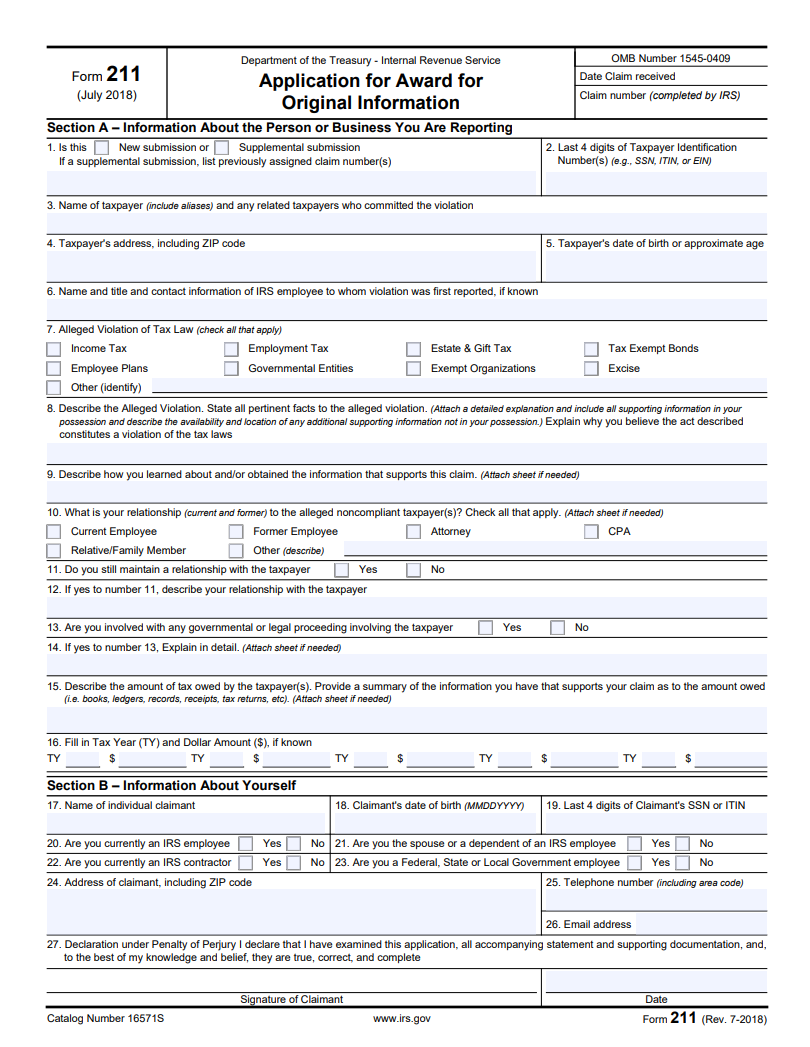checkbox: (400, 520, 426, 541), (576, 521, 602, 542), (473, 617, 499, 637), (543, 617, 569, 637), (622, 833, 645, 854), (329, 559, 353, 579), (402, 559, 426, 579), (235, 832, 256, 853), (234, 854, 255, 875), (283, 852, 304, 873), (42, 339, 65, 358), (40, 359, 63, 378), (41, 378, 64, 397), (219, 340, 242, 359), (218, 359, 241, 378), (401, 340, 424, 359), (401, 359, 424, 378), (579, 338, 602, 357), (578, 358, 601, 377), (42, 521, 65, 540), (42, 542, 65, 561), (224, 522, 247, 541), (223, 542, 246, 561), (89, 137, 112, 156), (212, 138, 235, 157), (282, 832, 301, 854), (673, 833, 692, 854), (625, 850, 644, 871), (673, 852, 692, 873)
textbox: (43, 870, 545, 940), (42, 278, 772, 324), (44, 192, 769, 237), (41, 230, 545, 285), (40, 963, 544, 996), (540, 132, 771, 203), (43, 790, 334, 837), (536, 231, 773, 287), (537, 869, 772, 916), (536, 792, 771, 838), (325, 791, 546, 837), (536, 963, 771, 997), (537, 908, 770, 938)
textline: (45, 167, 543, 201), (42, 446, 771, 467), (42, 484, 771, 505), (43, 600, 772, 621), (42, 658, 771, 679), (39, 716, 768, 737), (153, 376, 772, 393), (340, 541, 768, 558), (546, 750, 623, 771), (691, 749, 771, 769), (114, 749, 188, 767), (260, 752, 334, 770), (404, 751, 478, 769), (638, 750, 682, 771), (493, 751, 537, 770), (347, 751, 392, 769), (62, 751, 101, 770), (205, 752, 245, 770)
